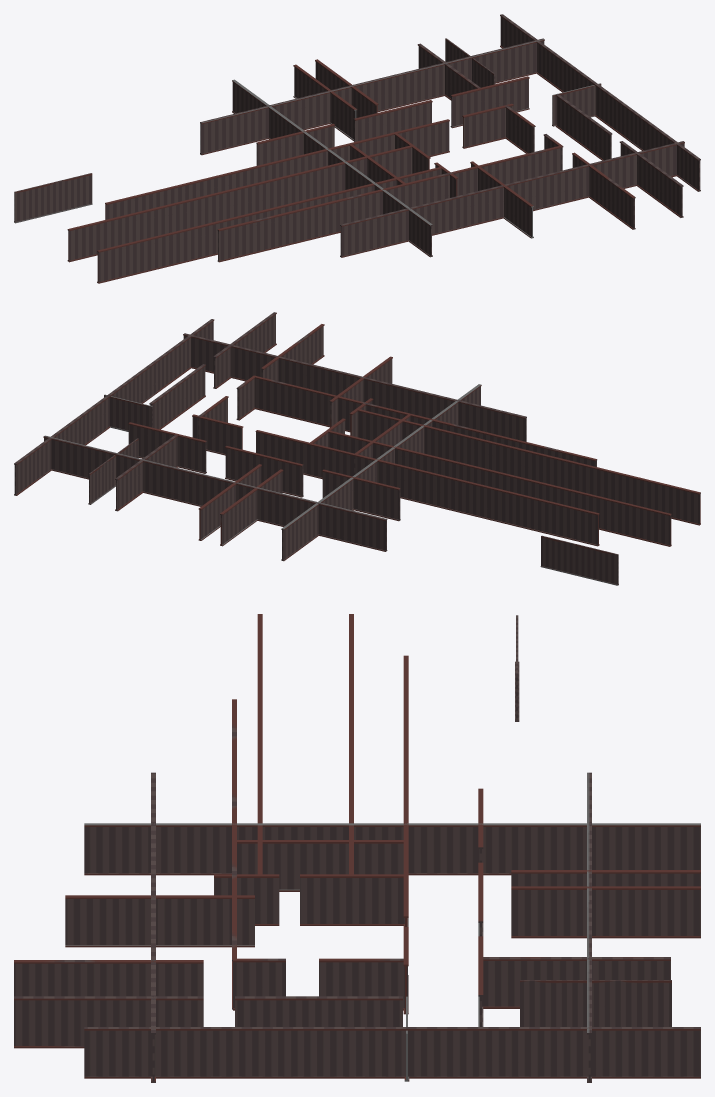
Rendered from wall3.glb.
3 views of the same model, one above another, from view 1: azimuth 30°, elevation 25°; view 2: azimuth 150°, elevation 25°; view 3: azimuth 270°, elevation 25° (orthographic). The views are drawn at different scales.
Parts seen in each view (by area): view 1: Cube.024, Cube.002, Cube.005, Cube.019, Cube.004, Cube.021, Cube.001, Cube.003, Cube.018, Cube.028, Cube.025, Cube.007 (+13 smaller); view 2: Cube.004, Cube.021, Cube.019, Cube.002, Cube.024, Cube.001, Cube.005, Cube.003, Cube.018, Cube.027, Cube.007, Cube.028 (+13 smaller); view 3: Cube.001, Cube.003, Cube.014, Cube.012, Cube.023, Cube.010, Cube.017, Cube.015, Cube.013, Cube.006, Cube.025, Cube.009 (+9 smaller).
Boxes of the visible parts, x1=… form: Cube.024: x1=67, y1=145, x2=412, y2=262; Cube.002: x1=340, y1=141, x2=684, y2=257; Cube.005: x1=217, y1=145, x2=562, y2=262; Cube.019: x1=200, y1=38, x2=544, y2=155; Cube.004: x1=105, y1=119, x2=449, y2=219; Cube.021: x1=97, y1=167, x2=441, y2=283; Cube.001: x1=500, y1=14, x2=700, y2=191; Cube.003: x1=232, y1=79, x2=432, y2=257; Cube.018: x1=14, y1=173, x2=92, y2=223; Cube.028: x1=450, y1=76, x2=529, y2=128; Cube.025: x1=555, y1=94, x2=612, y2=160; Cube.007: x1=353, y1=100, x2=432, y2=141; Cube.004: x1=255, y1=430, x2=599, y2=546; Cube.021: x1=357, y1=409, x2=700, y2=525; Cube.019: x1=43, y1=435, x2=387, y2=551; Cube.002: x1=183, y1=333, x2=526, y2=441; Cube.024: x1=328, y1=430, x2=671, y2=546; Cube.001: x1=14, y1=319, x2=214, y2=495; Cube.005: x1=254, y1=375, x2=597, y2=466; Cube.003: x1=281, y1=384, x2=481, y2=561; Cube.018: x1=540, y1=535, x2=618, y2=585; Cube.027: x1=322, y1=469, x2=400, y2=521; Cube.007: x1=225, y1=446, x2=303, y2=497; Cube.028: x1=128, y1=422, x2=206, y2=473; Cube.001: x1=84, y1=1027, x2=700, y2=1078; Cube.003: x1=84, y1=823, x2=700, y2=875; Cube.014: x1=511, y1=886, x2=700, y2=938; Cube.012: x1=65, y1=895, x2=254, y2=947; Cube.023: x1=14, y1=996, x2=203, y2=1048; Cube.010: x1=520, y1=980, x2=671, y2=1026; Cube.017: x1=14, y1=960, x2=203, y2=996; Cube.015: x1=235, y1=840, x2=406, y2=891; Cube.013: x1=300, y1=874, x2=404, y2=925; Cube.006: x1=482, y1=957, x2=670, y2=1008; Cube.025: x1=235, y1=996, x2=402, y2=1026; Cube.009: x1=319, y1=958, x2=407, y2=1010.
Size of the model in its own units: 11.63 by 0.6433 by 8.05.
Materials: 27 (27 with a texture image).
